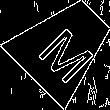M_NE: (30, 12, 98, 80)
